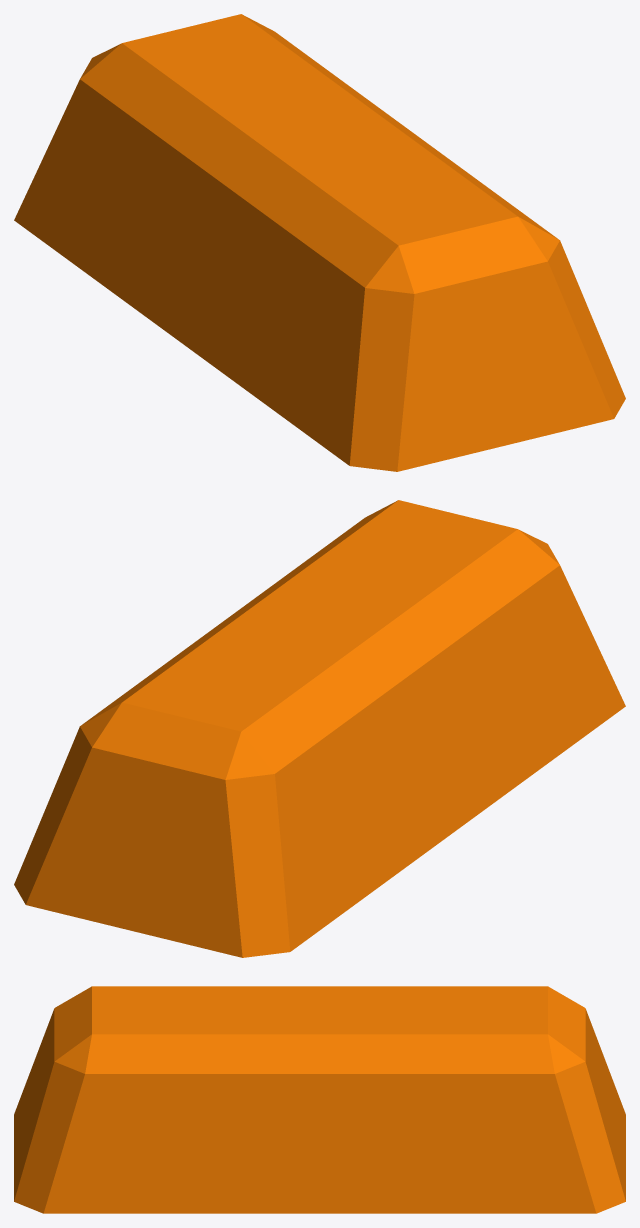
Rendered from LamberjackIngotSet01.FBX.
The picture shows the model from 3 angles, top to bottom: view 1: azimuth 30°, elevation 25°; view 2: azimuth 150°, elevation 25°; view 3: azimuth 270°, elevation 25°; orthographic projection. The views are drawn at different scales.
Visible parts, largest first — view 1: LamberjackIngotSet01; view 2: LamberjackIngotSet01; view 3: LamberjackIngotSet01.
Boxes of the visible parts, box(x1,y1,x2,y2) form: LamberjackIngotSet01: box(14, 14, 625, 471); LamberjackIngotSet01: box(14, 500, 625, 957); LamberjackIngotSet01: box(14, 986, 625, 1213).
Bounding box in the file's own units: 17.94 × 11.15 × 41.79.
